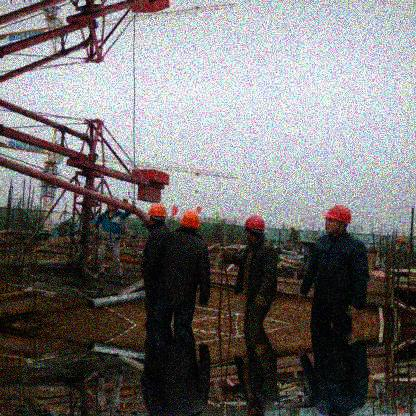helmet: (321, 203, 352, 235), (244, 214, 266, 244), (180, 209, 202, 230), (147, 203, 168, 225)
